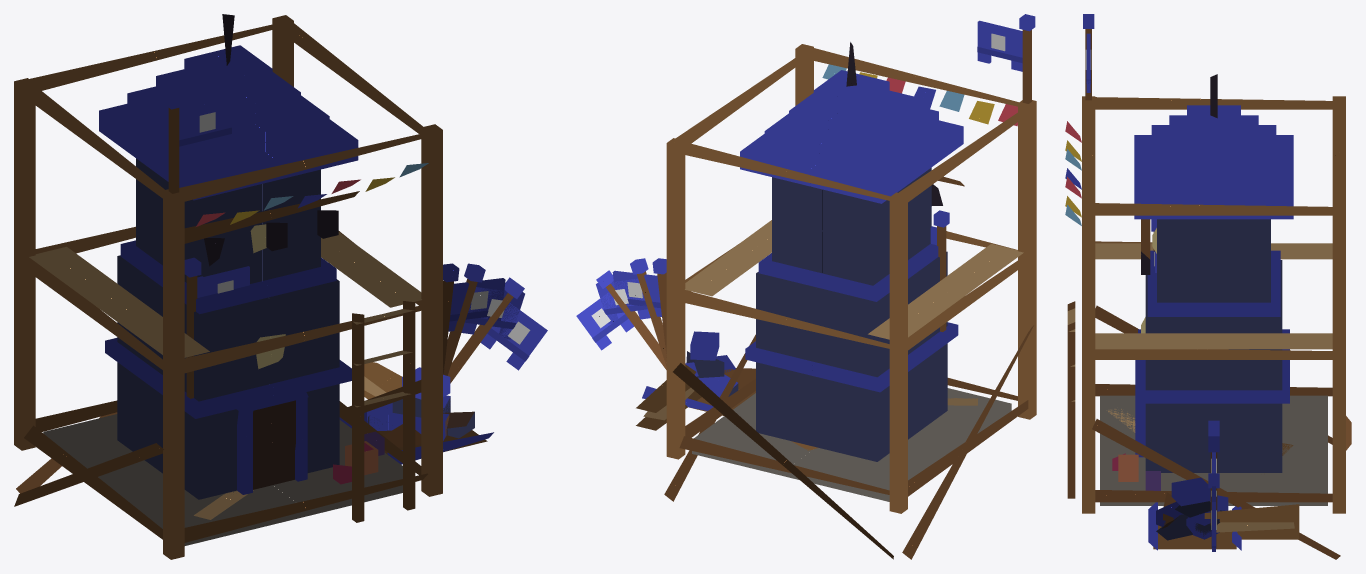
The model's file is bat-home_lod1.glb.
The picture shows the model from 3 angles, left to right: view 1: azimuth 30°, elevation 25°; view 2: azimuth 150°, elevation 25°; view 3: azimuth 270°, elevation 25°; orthographic projection. The views are drawn at different scales.
Parts seen in each view (by area): view 1: scaffold-mesh, built-mesh, dismantle-25-mesh, dismantle-75-mesh, dismantle-50-mesh, scaffold-banner, dismantle-25-banner, dismantle-75-banner, scaffold-flag-pole, dismantle-50-banner, dismantle-25-flag-pole, dismantle-50-flag-pole (+3 smaller); view 2: scaffold-mesh, built-mesh, dismantle-25-mesh, dismantle-75-mesh, scaffold-banner, dismantle-25-banner, dismantle-75-banner, dismantle-50-banner, dismantle-25-flag-pole, scaffold-flag-pole, dismantle-50-flag-pole, dismantle-50-mesh (+2 smaller); view 3: scaffold-mesh, built-mesh, dismantle-50-mesh, dismantle-25-mesh, dismantle-75-mesh, scaffold-flag-pole.
Boxes of the visible parts, x1,y1,x2,y2 form: scaffold-mesh: (14,15,442,559); built-mesh: (43,14,402,545); dismantle-25-mesh: (44,367,493,527); dismantle-75-mesh: (105,179,450,484); dismantle-50-mesh: (105,341,474,494); scaffold-banner: (179,97,231,156); dismantle-25-banner: (480,303,547,370); dismantle-75-banner: (448,278,505,331); scaffold-flag-pole: (164,89,183,193); dismantle-50-banner: (461,287,524,339); dismantle-25-flag-pole: (447,277,524,383); dismantle-50-flag-pole: (443,263,485,375); scaffold-mesh: (636,44,1036,559); built-mesh: (692,42,1011,501); dismantle-25-mesh: (642,331,1010,487); dismantle-75-mesh: (644,185,957,410); scaffold-banner: (977,20,1022,71); dismantle-25-banner: (576,292,633,350); dismantle-75-banner: (612,270,661,316); dismantle-50-banner: (596,278,650,323); dismantle-25-flag-pole: (596,270,666,369); scaffold-flag-pole: (1019,14,1035,103); dismantle-50-flag-pole: (630,258,666,366); dismantle-50-mesh: (686,325,958,396); scaffold-mesh: (1065,96,1351,559); built-mesh: (1100,74,1327,505); dismantle-50-mesh: (1135,331,1289,540); dismantle-25-mesh: (1100,395,1327,550); dismantle-75-mesh: (1112,236,1300,536); scaffold-flag-pole: (1083,14,1094,100).
Size of the model in its own units: 2.35 by 2.53 by 1.51.
